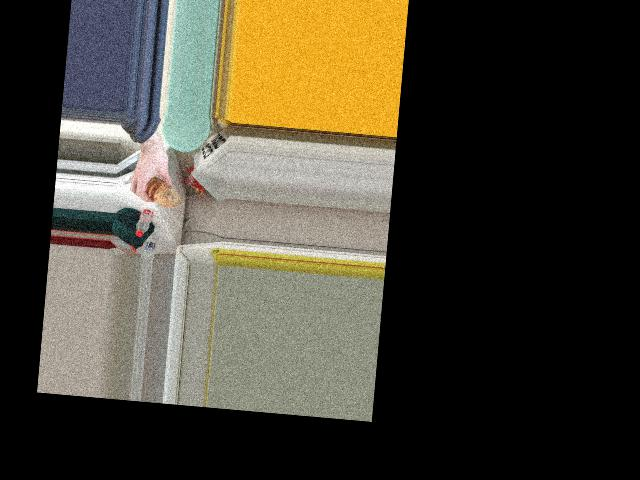sweet_potato: (143, 175, 175, 208)
